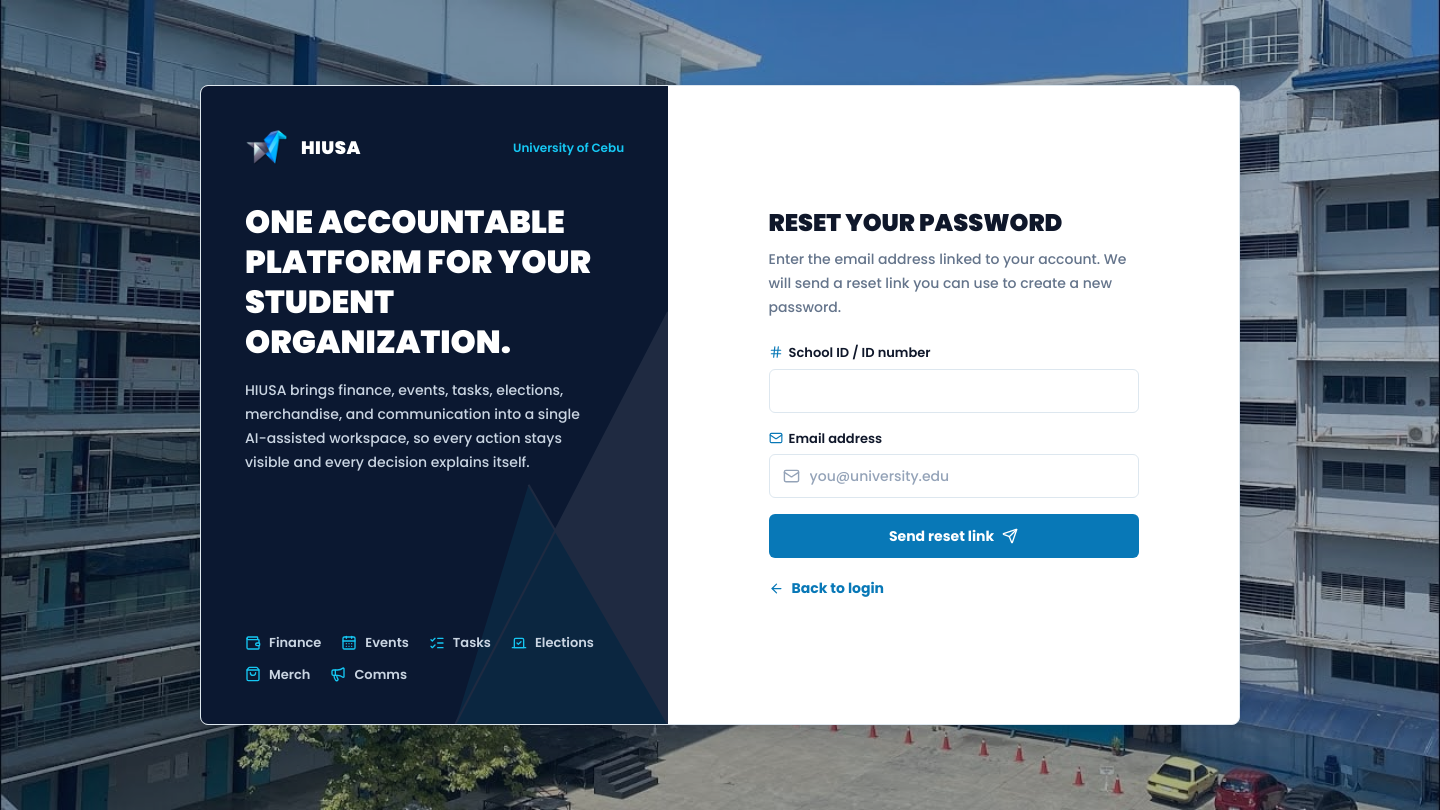
Scenario: password recovery pages › requests a reset by school ID without revealing account existence
Type "12345678" into the field labelled "School ID / ID number" at (954,391), box x1=768 y1=369 x2=1138 y2=413
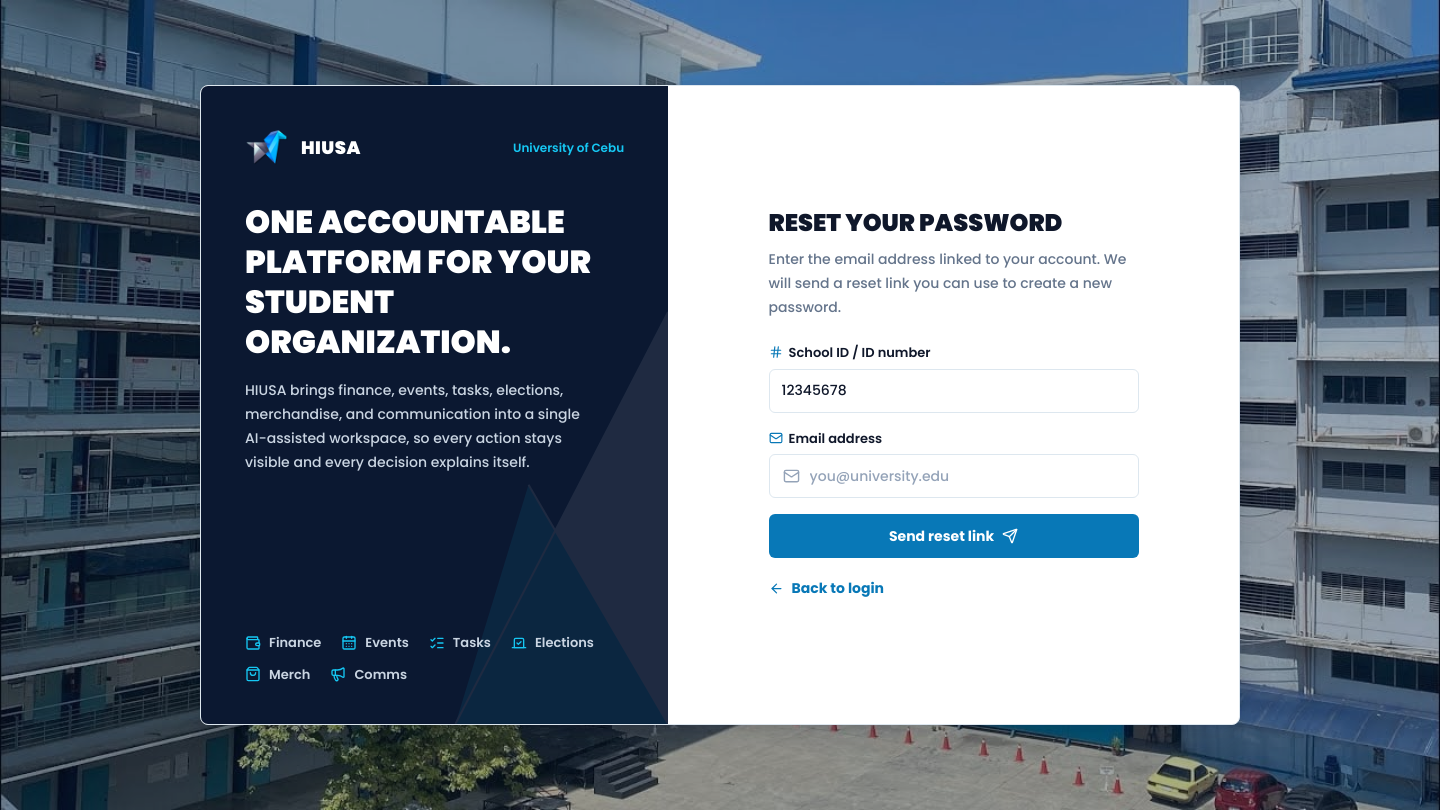
Type "admin@example.test" into the field labelled "Email address" at (954,476), box x1=768 y1=454 x2=1138 y2=498
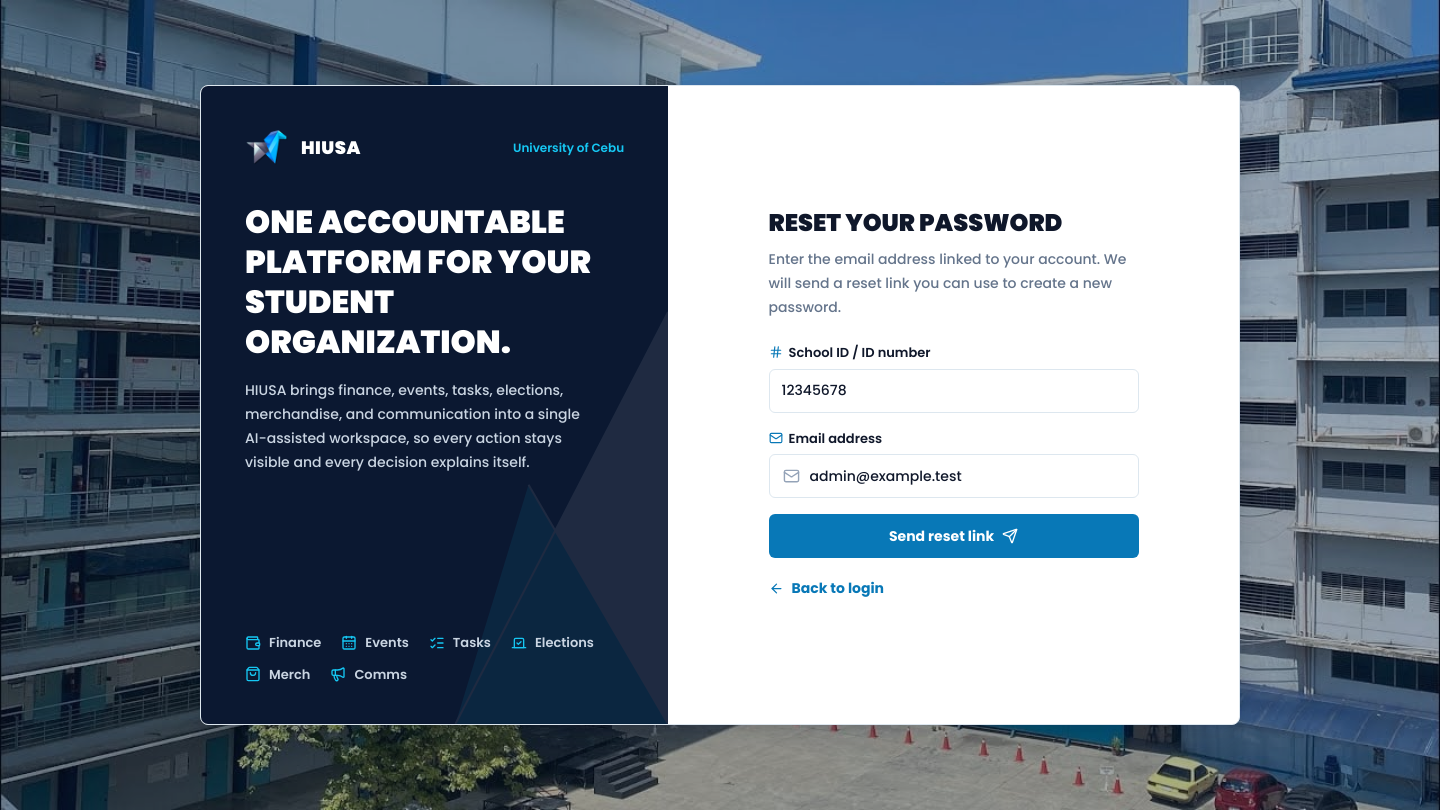
Click the button "Send reset link" at (954,536), box x1=768 y1=514 x2=1138 y2=558
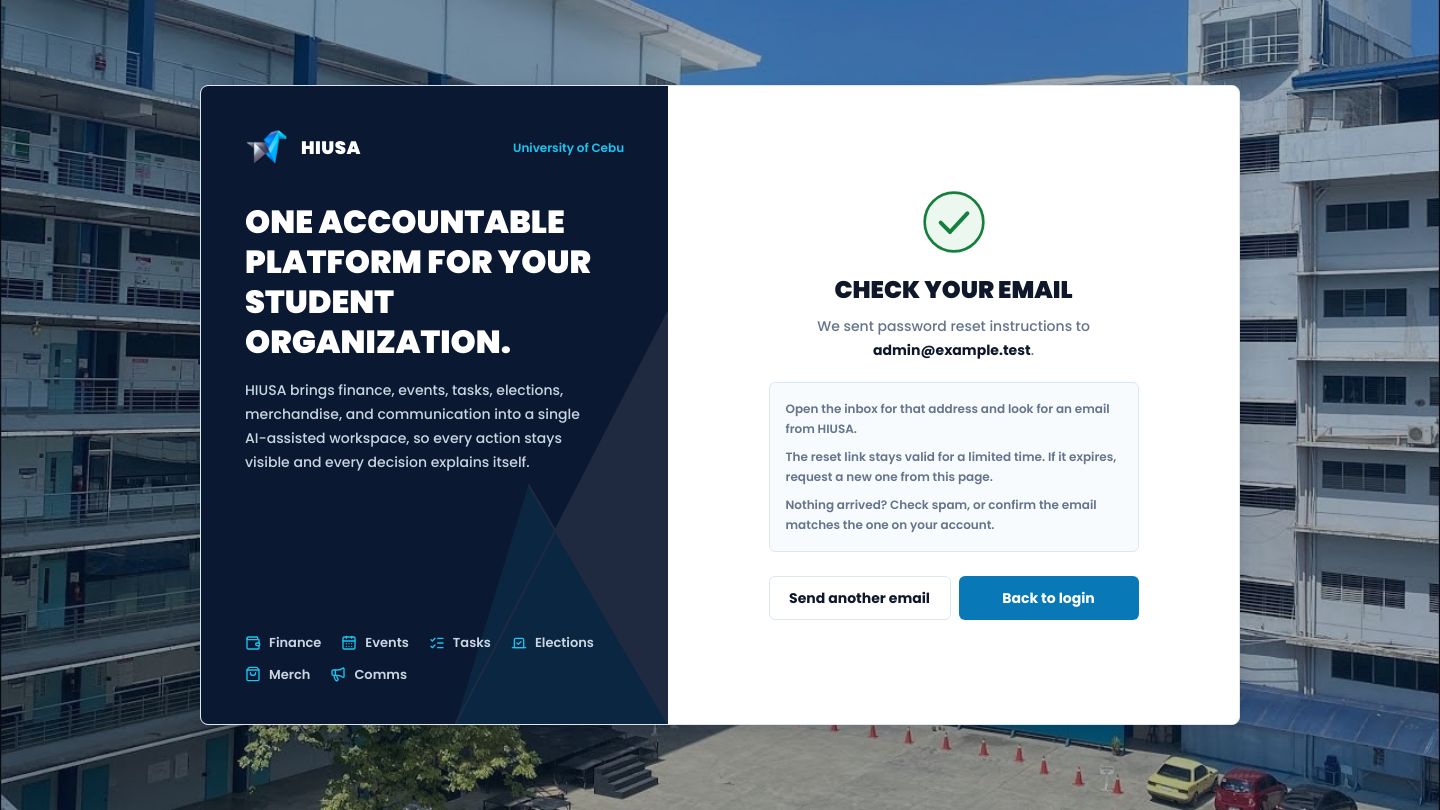
Result: the heading "Check your email" is shown at x1=834 y1=274 x2=1073 y2=306
